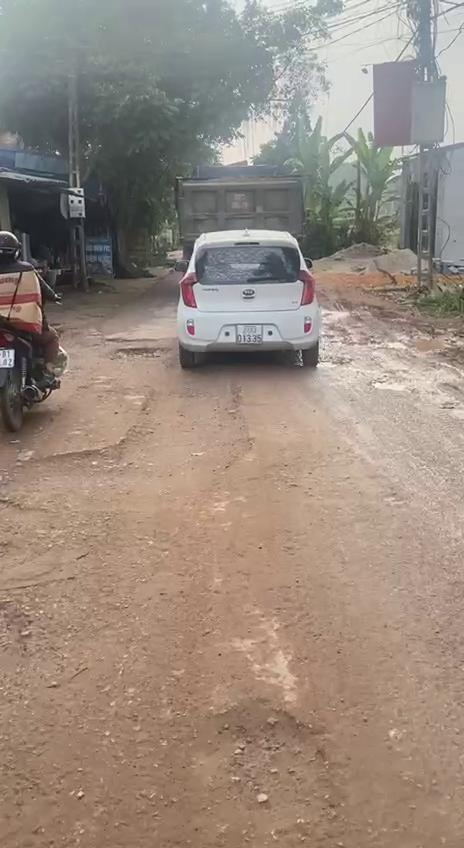pothole: (198, 696, 344, 848), (17, 430, 268, 488), (106, 339, 168, 366)
